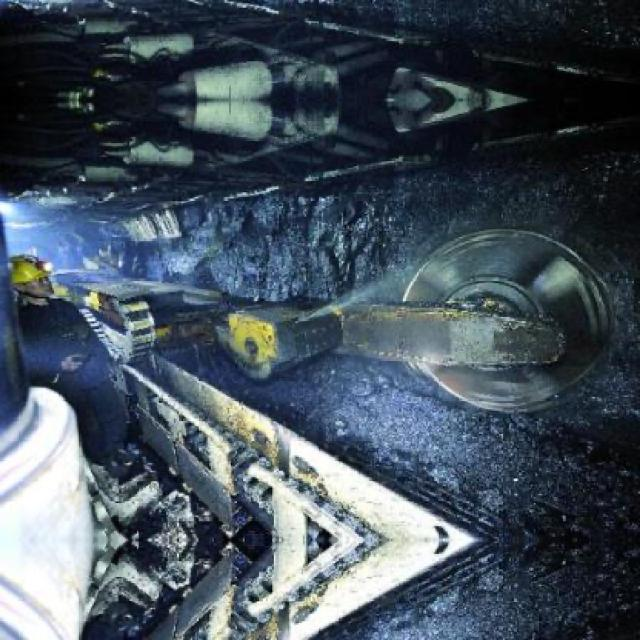con casco: (0, 243, 74, 311)
